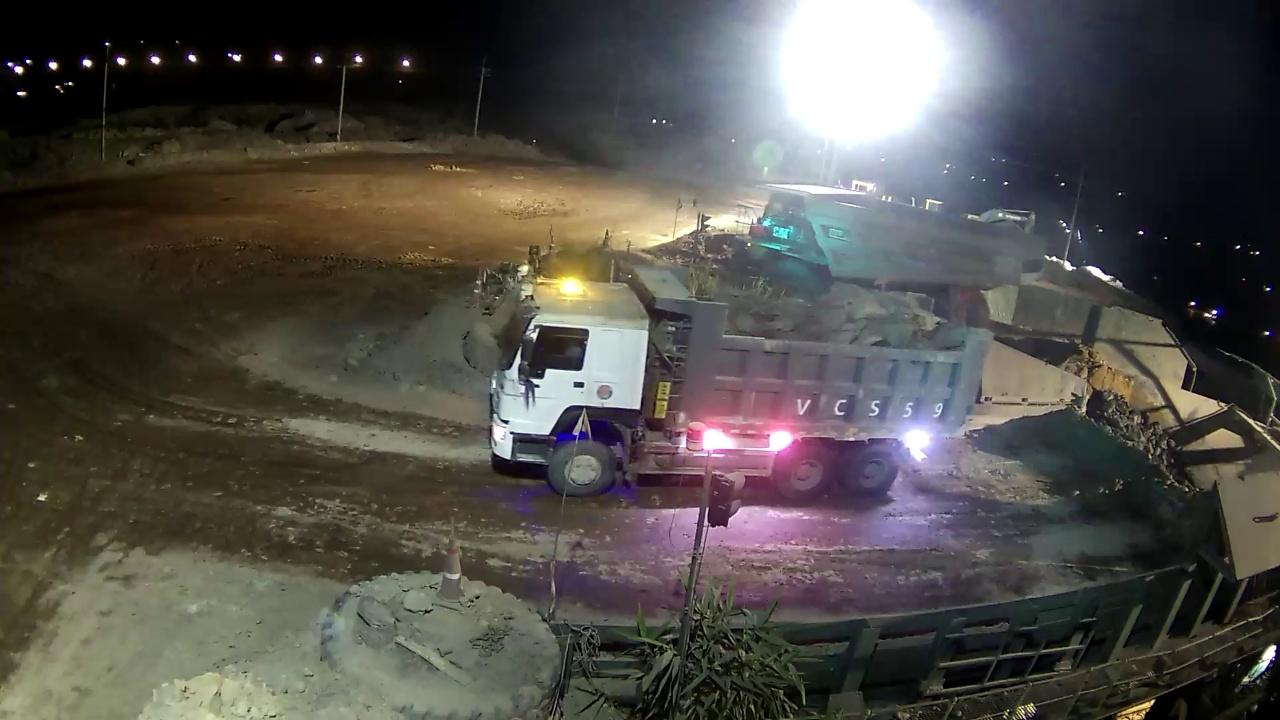mining_truck: (744, 171, 1053, 329)
